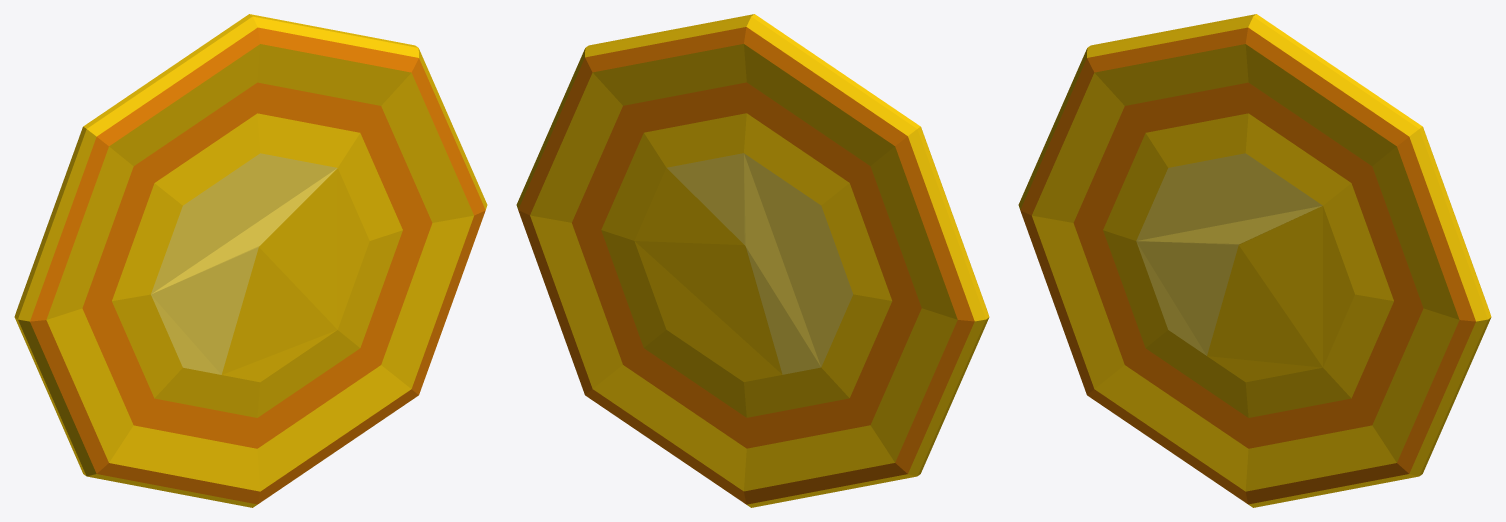
The model's file is Coin.gltf.
3 views of the same model, side by side, from view 1: azimuth 30°, elevation 25°; view 2: azimuth 150°, elevation 25°; view 3: azimuth 330°, elevation 25° (orthographic).
Visible parts, largest first — view 1: Circle; view 2: Circle; view 3: Circle.
Part boxes in pixels (x1,y1,x2,y2): Circle: [14, 14, 487, 507]; Circle: [516, 14, 989, 507]; Circle: [1018, 14, 1491, 507].
Size of the model in its own units: 2 by 2 by 0.1731.
